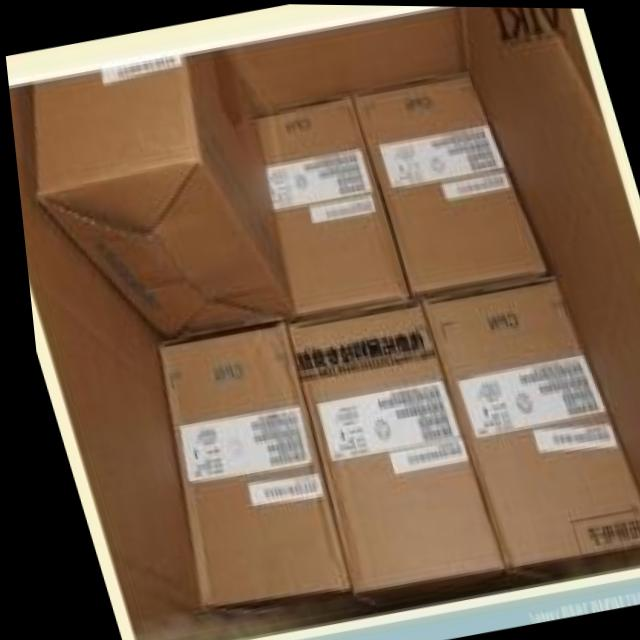box: (30, 51, 291, 343), (414, 274, 640, 577), (283, 304, 493, 599), (151, 323, 341, 634), (346, 71, 542, 304), (250, 96, 405, 320)
